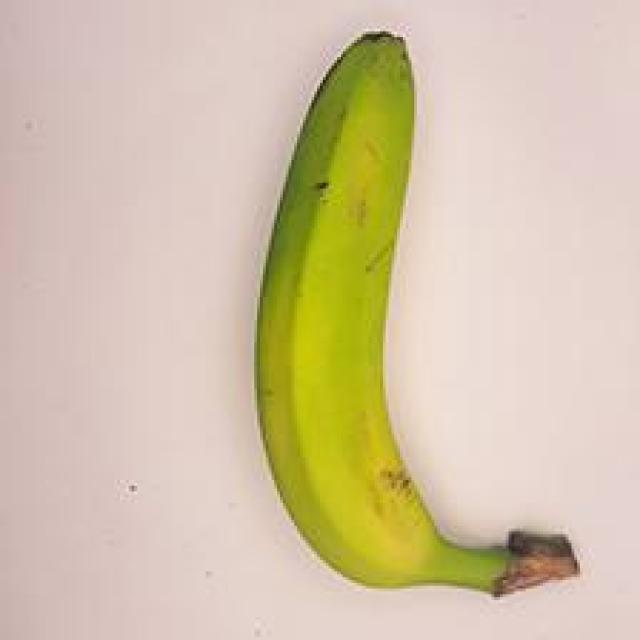Unripe: (220, 5, 590, 618)
